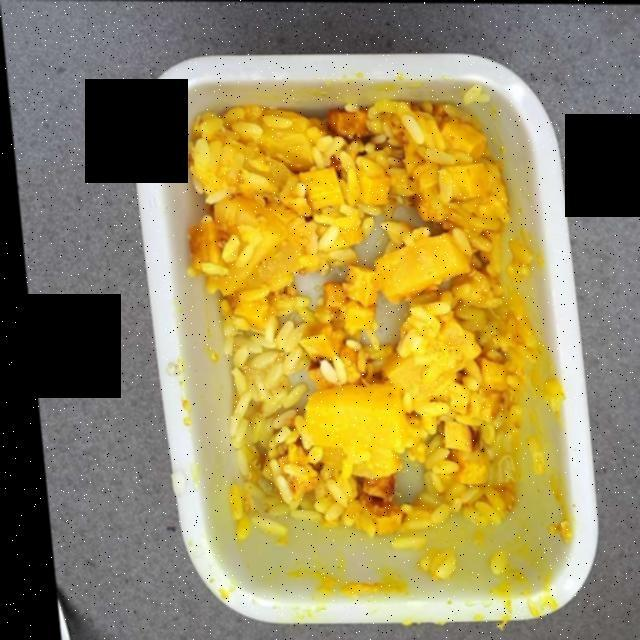rice: (172, 87, 524, 568)
sauce: (260, 92, 531, 572)
